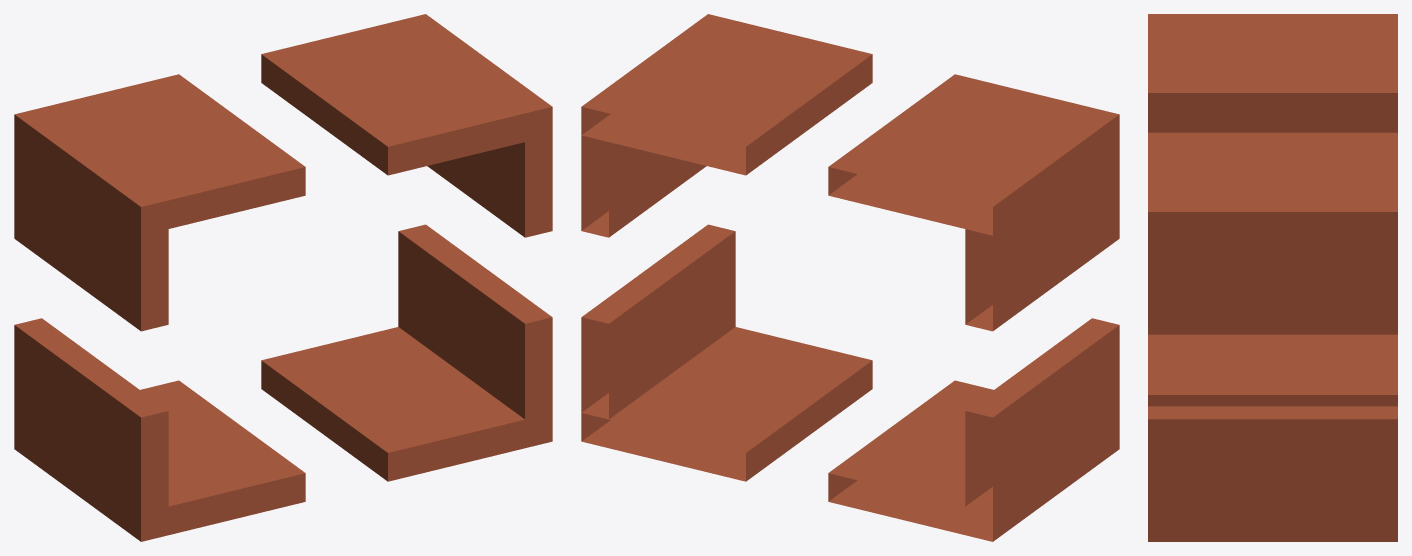
File: construction_1.glb
3 views of the same model, side by side, from view 1: azimuth 30°, elevation 25°; view 2: azimuth 150°, elevation 25°; view 3: azimuth 270°, elevation 25° (orthographic).
Parts seen in each view (by area): view 1: c1; view 2: c1; view 3: c1.
Boxes of the visible parts, bbox=[...] form: c1: bbox=[14, 14, 552, 541]; c1: bbox=[581, 14, 1119, 541]; c1: bbox=[1148, 14, 1397, 541].
Bounding box in the file's own units: 9 × 7 × 4.8.
